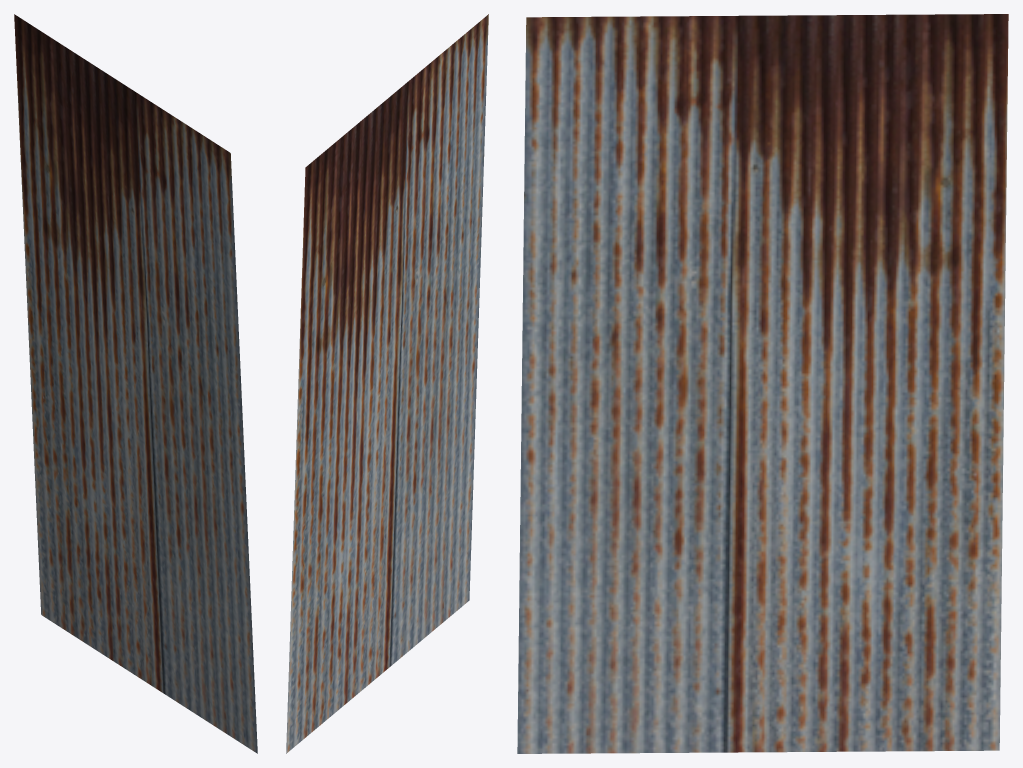
Rendered from calaminav.glb.
3 renders of one model, left to right at view 1: azimuth 30°, elevation 25°; view 2: azimuth 150°, elevation 25°; view 3: azimuth 270°, elevation 25°, orthographic. The views are drawn at different scales.
Parts seen in each view (by area): view 1: Plane.004; view 2: Plane.004; view 3: Plane.004.
Boxes of the visible parts, x1,y1,x2,y2 form: Plane.004: (14,14,257,753); Plane.004: (286,14,488,753); Plane.004: (517,14,1008,753).
Size of the model in its own units: 1.89 by 28.51 by 17.42.
Materials: 1 (1 with a texture image).
